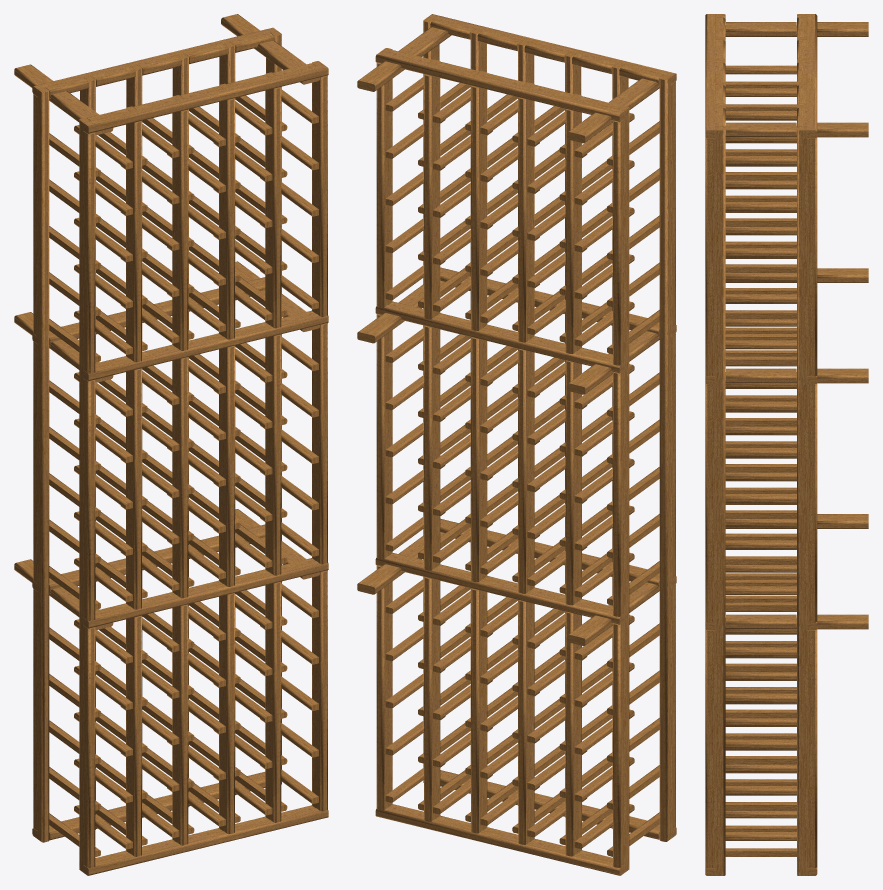
File: VCKB0030.glb
3 views of the same model, side by side, from view 1: azimuth 30°, elevation 25°; view 2: azimuth 150°, elevation 25°; view 3: azimuth 270°, elevation 25° (orthographic). The views are drawn at different scales.
Visible parts, largest first — view 1: V Bar ICE 48.011; view 2: V Bar ICE 48.011; view 3: V Bar ICE 48.011.
Part boxes in pixels (x1,y1,x2,y2): V Bar ICE 48.011: [14, 14, 328, 875]; V Bar ICE 48.011: [357, 14, 676, 875]; V Bar ICE 48.011: [705, 14, 868, 875].
Bounding box in the file's own units: 0.406 × 1.21 × 0.241.
3 materials, 3 textured.
